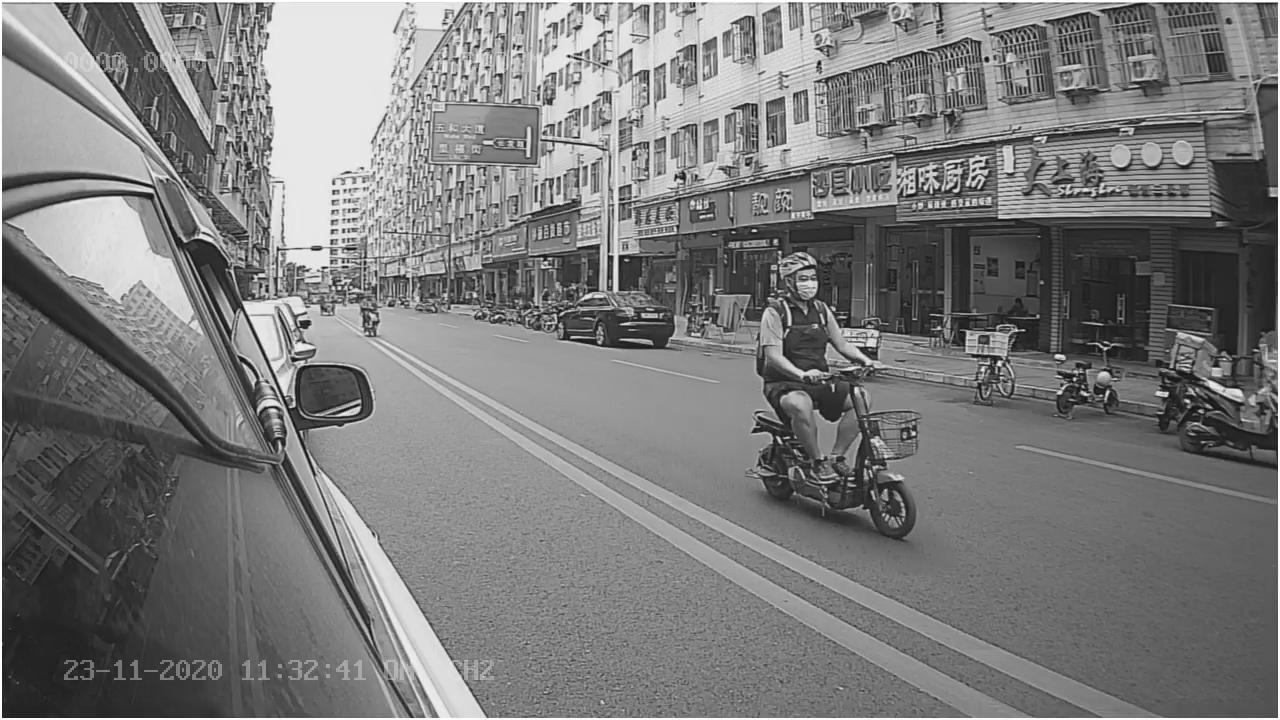person: (759, 237, 873, 379)
